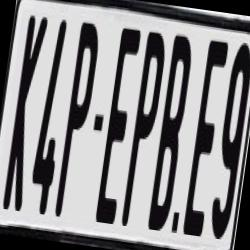4: (26, 19, 74, 217)
9: (206, 35, 250, 247)
B: (146, 34, 198, 242)
E: (182, 39, 229, 242), (96, 24, 144, 221)
K: (2, 8, 52, 216)
P: (54, 18, 103, 219), (118, 32, 167, 232)
